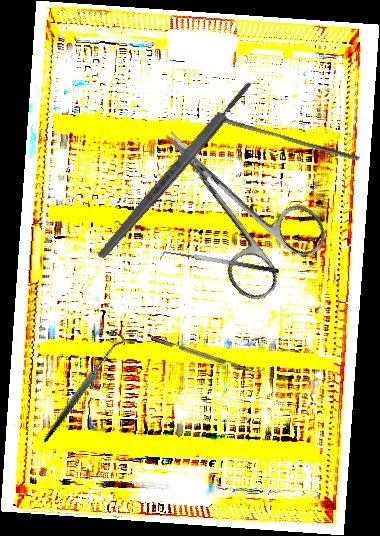Chopper: (150, 330, 264, 378)
Hook Surgical: (12, 326, 151, 443)
Iris Scissors: (130, 95, 335, 308)
Pusher: (219, 116, 362, 162)
Scalpel Handle: (94, 78, 256, 262)
Spatula Surgical: (159, 245, 280, 284)
